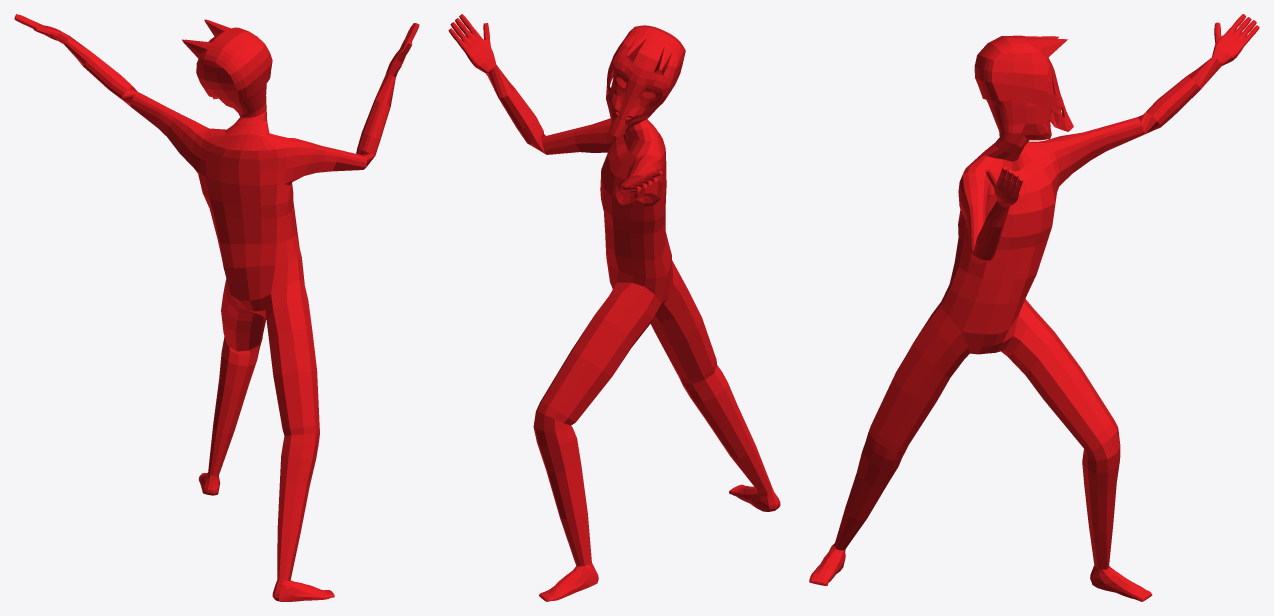
The model's file is activaAlarma_000168.obj.
3 renders of one model, left to right at view 1: azimuth 30°, elevation 25°; view 2: azimuth 150°, elevation 25°; view 3: azimuth 270°, elevation 25°, orthographic. The views are drawn at different scales.
Parts seen in each view (by area): view 1: Plane.002_Plane.001; view 2: Plane.002_Plane.001; view 3: Plane.002_Plane.001.
Part boxes in pixels (x1=…): Plane.002_Plane.001: x1=14, y1=14, x2=419, y2=601; Plane.002_Plane.001: x1=448, y1=14, x2=780, y2=601; Plane.002_Plane.001: x1=809, y1=14, x2=1259, y2=601.
Size of the model in its own units: 4.15 by 6.67 by 4.99.
